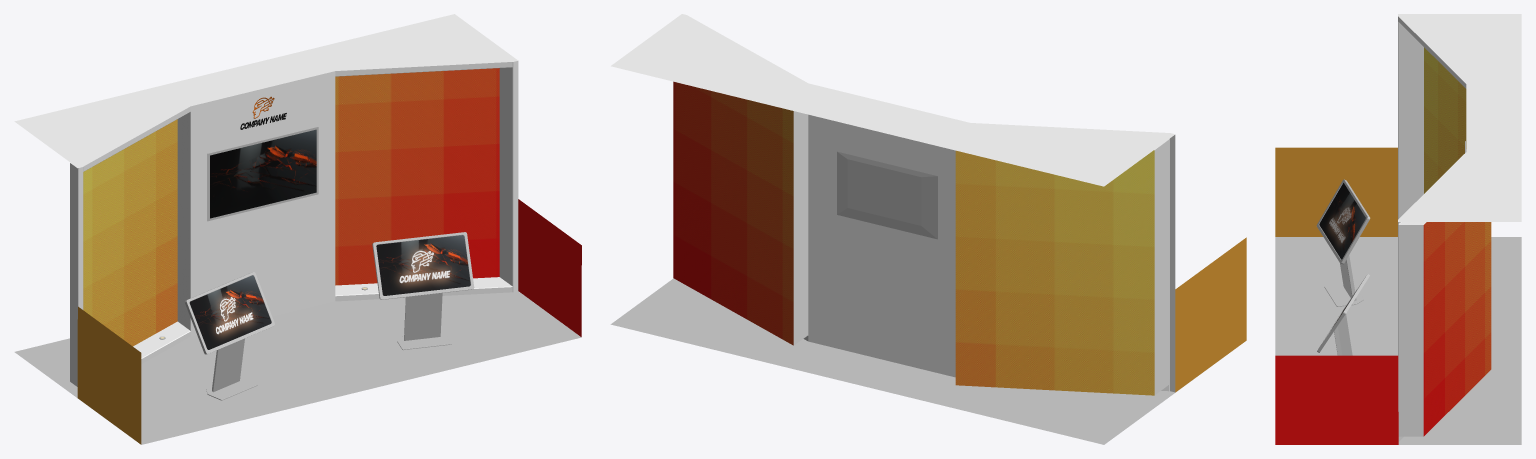
The model's file is Classic10x20_COLLADA.DAE.
3 renders of one model, left to right at view 1: azimuth 30°, elevation 25°; view 2: azimuth 150°, elevation 25°; view 3: azimuth 270°, elevation 25°, orthographic. The views are drawn at different scales.
Visible parts, largest first — view 1: ClassicBooth, DigitalTVStand1, Monitor_65Inch002, DigitalTVStand002; view 2: ClassicBooth, Monitor_65Inch002; view 3: ClassicBooth, DigitalTVStand002, DigitalTVStand1.
Part boxes in pixels (x1,y1,x2,y2): ClassicBooth: (14, 14, 581, 444); DigitalTVStand1: (372, 232, 474, 350); Monitor_65Inch002: (207, 126, 318, 221); DigitalTVStand002: (184, 272, 274, 400); ClassicBooth: (610, 14, 1246, 444); Monitor_65Inch002: (837, 151, 937, 239); ClassicBooth: (1275, 14, 1521, 444); DigitalTVStand002: (1316, 179, 1370, 306); DigitalTVStand1: (1317, 274, 1370, 355).
Size of the model in its own units: 240 by 120 by 120.
